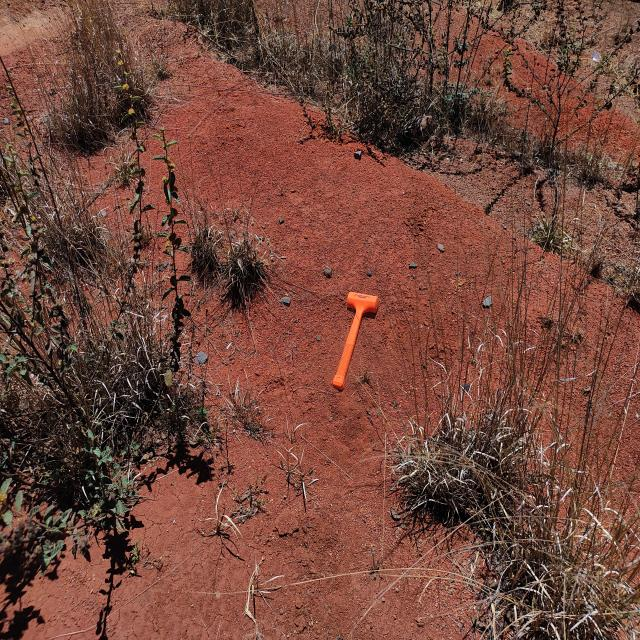Orange_hammer: (331, 290, 379, 391)
